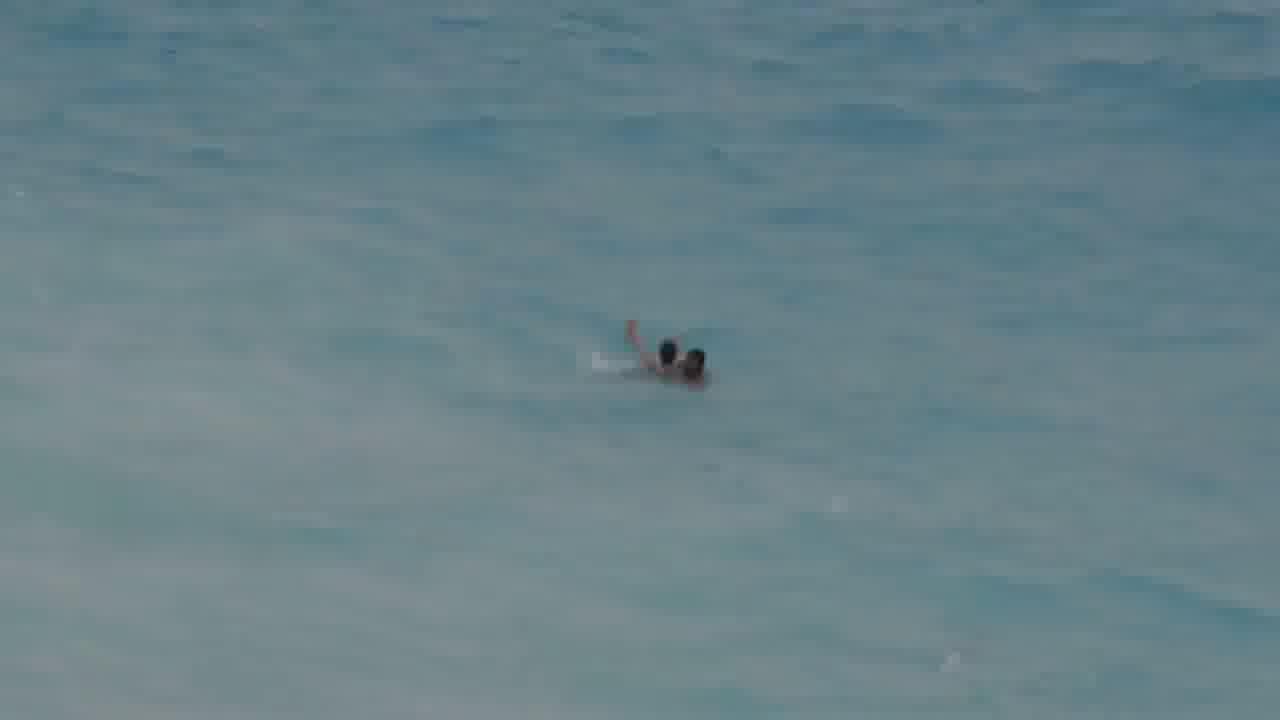swimmer: (681, 337, 714, 383), (652, 320, 672, 363)
